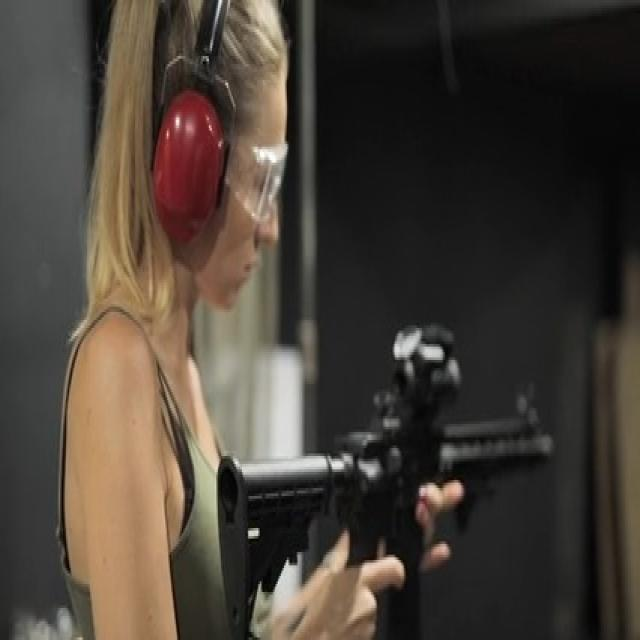Gun_Holder: (205, 299, 610, 633)
Person: (54, 0, 406, 640)
